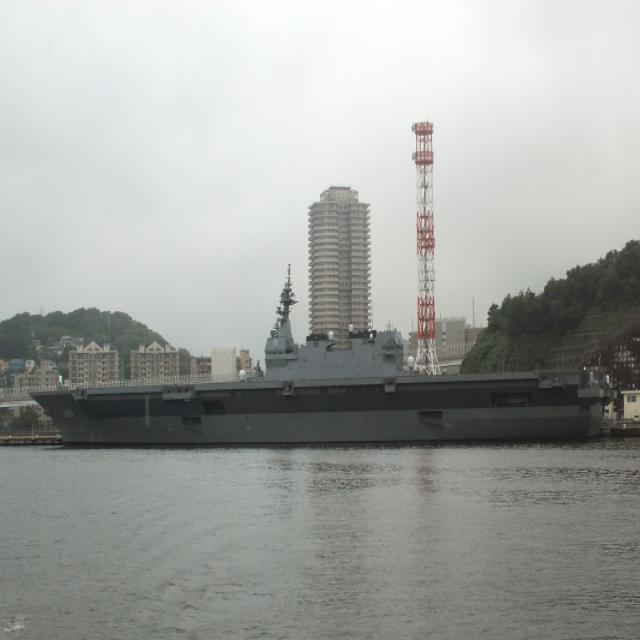Portanaves: (27, 258, 619, 450)
